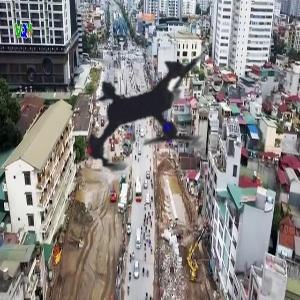drone: (34, 3, 262, 231)
